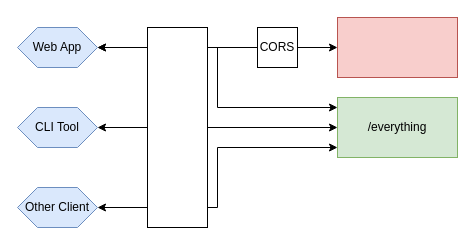
This 475x245 diagram has some shape labels left out. The shapes that lost their labels are listed below. From the top down, each one's centre as x and y in pixels, then its label:
At (x=397, y=47): "/auth".
At (x=177, y=127): "Rate Limiter".
